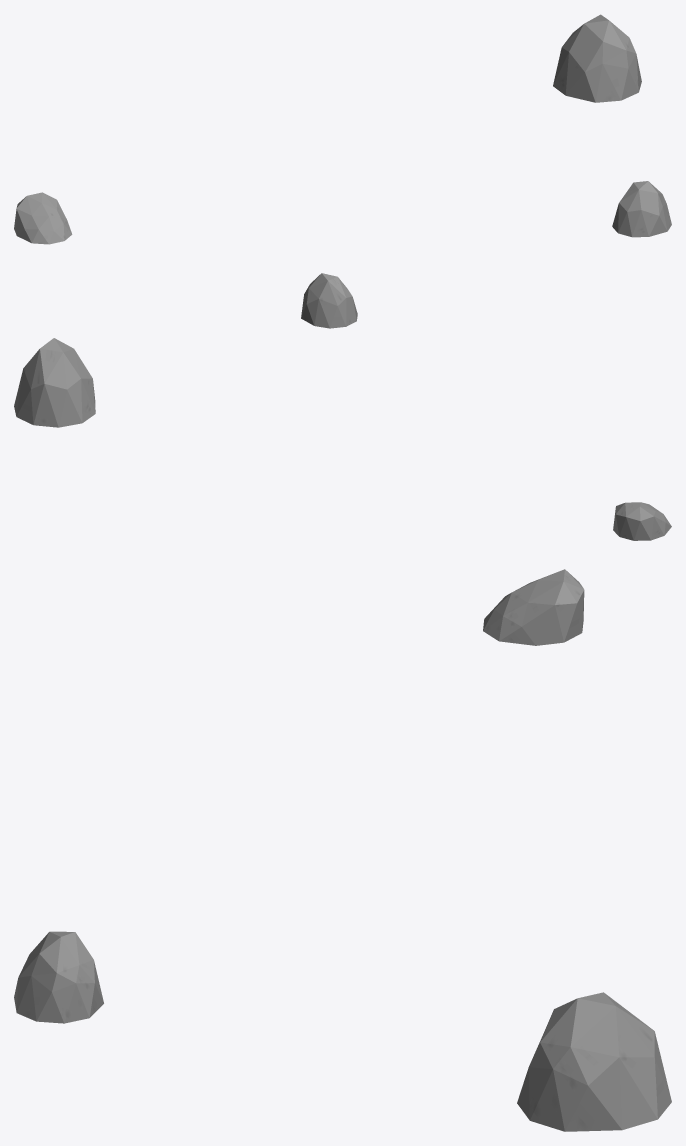
The model's file is Stones6.gltf.
The picture shows the model from 3 angles, top to bottom: view 1: azimuth 30°, elevation 25°; view 2: azimuth 150°, elevation 25°; view 3: azimuth 270°, elevation 25°; orthographic projection. The views are drawn at different scales.
Parts seen in each view (by area): view 1: Stone2.002 - copy.004, Stone2.002 - copy.002, Stone1.004 - copy.004; view 2: Stone2.002 - copy.004, Stone2.002 - copy.002, Stone1.004 - copy.004; view 3: Stone2.002 - copy.004, Stone2.002 - copy.002, Stone1.004 - copy.004.
Part boxes in pixels (x1,y1,x2,y2): Stone2.002 - copy.004: (553, 14, 641, 102); Stone2.002 - copy.002: (612, 181, 671, 237); Stone1.004 - copy.004: (14, 192, 72, 244); Stone2.002 - copy.004: (14, 338, 95, 427); Stone2.002 - copy.002: (301, 273, 357, 328); Stone1.004 - copy.004: (613, 502, 671, 540); Stone2.002 - copy.004: (517, 992, 671, 1131); Stone2.002 - copy.002: (14, 931, 103, 1023); Stone1.004 - copy.004: (483, 569, 584, 645).
Bounding box in the file's own units: 15.35 × 1.52 × 8.26.
2 materials, 2 textured.
